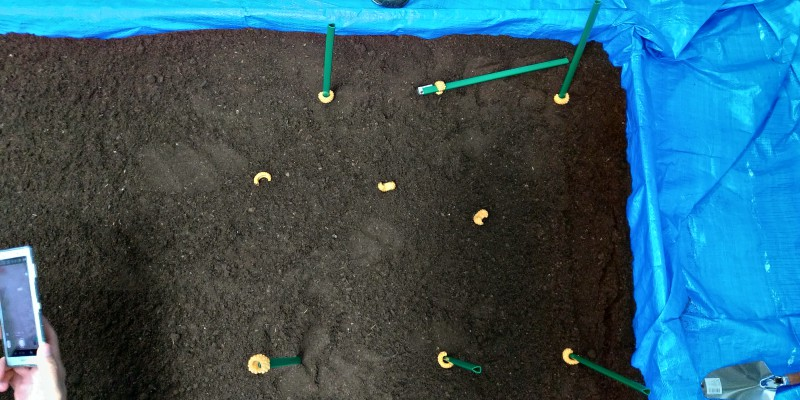eggs: (464, 202, 491, 230), (558, 343, 589, 367), (246, 351, 273, 376), (548, 84, 572, 107), (248, 168, 272, 190), (437, 346, 455, 373), (373, 177, 397, 194), (314, 86, 335, 105), (430, 76, 449, 96)
